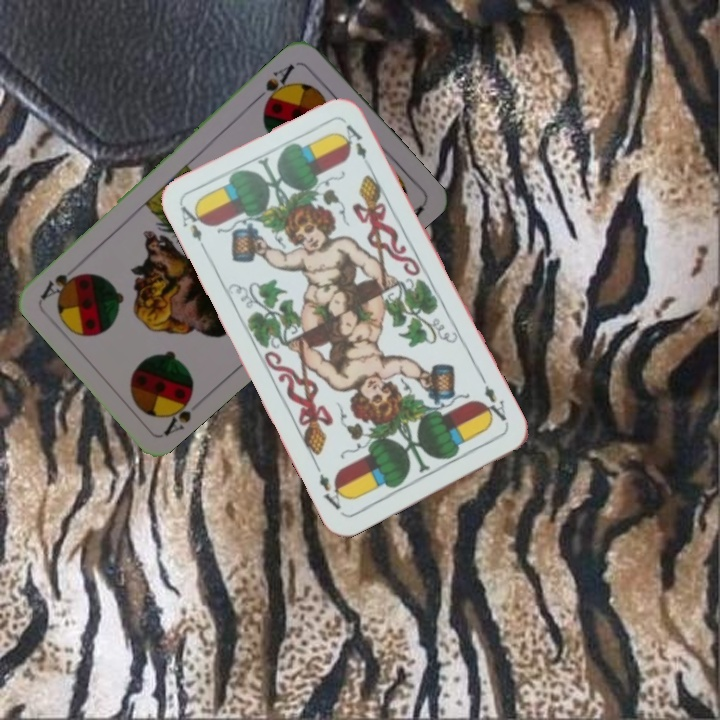EA: (176, 201, 211, 257), (478, 381, 512, 428)
SA: (156, 384, 198, 439), (252, 60, 298, 110)
